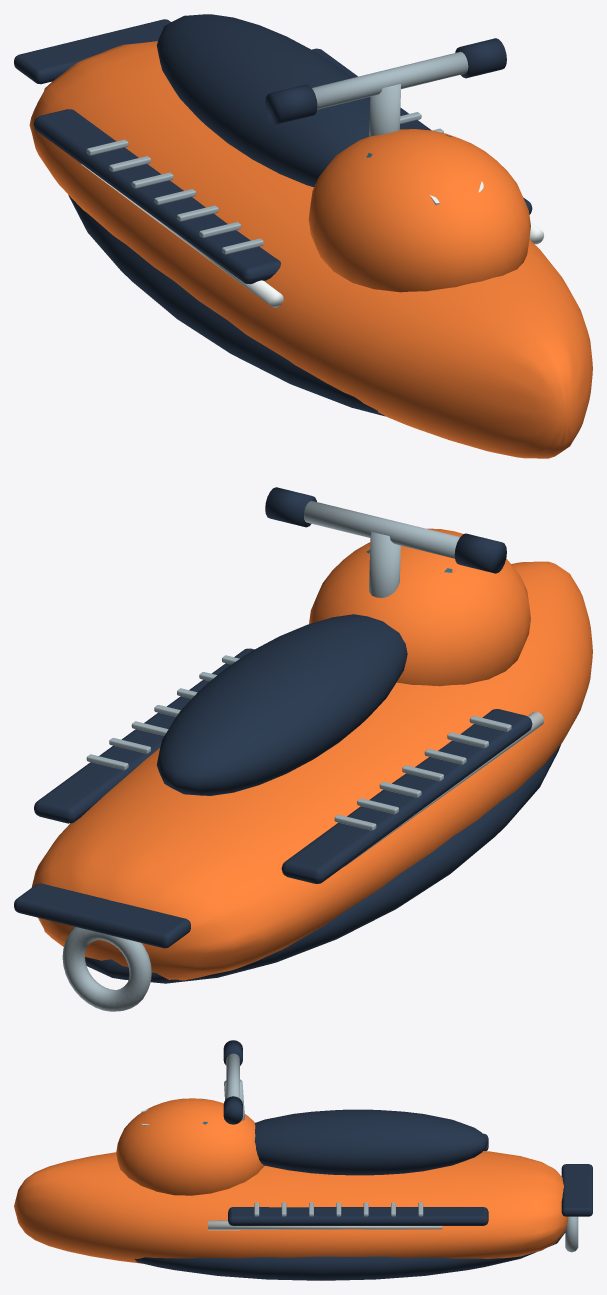
Rendered from 02_Surge_Balanced.glb.
The picture shows the model from 3 angles, top to bottom: view 1: azimuth 30°, elevation 25°; view 2: azimuth 150°, elevation 25°; view 3: azimuth 270°, elevation 25°; orthographic projection. The views are drawn at different scales.
Parts seen in each view (by area): view 1: Sculpted hull.001, Front cowl.001, Saddle.001, Foot deck.002, Lower hull.001, Handlebar.001, Rear step.001, Grip.002, Steering column.001, Grip.003, Side highlight.002, Foot deck.003; view 2: Sculpted hull.001, Saddle.001, Front cowl.001, Foot deck.002, Lower hull.001, Rear step.001, Foot deck.003, Jet outlet.001, Handlebar.001, Steering column.001, Grip.002, Grip.003 (+1 smaller); view 3: Sculpted hull.001, Saddle.001, Front cowl.001, Lower hull.001, Foot deck.003, Rear step.001, Side highlight.003, Handlebar.001, Grip.003, Jet outlet.001, Grip.002.
Part boxes in pixels (<box>): Sculpted hull.001: <box>29,41,592,458</box>; Front cowl.001: <box>308,129,530,292</box>; Saddle.001: <box>156,14,370,187</box>; Foot deck.002: <box>34,109,280,284</box>; Lower hull.001: <box>68,194,385,416</box>; Handlebar.001: <box>312,51,468,109</box>; Rear step.001: <box>14,19,170,84</box>; Grip.002: <box>265,84,317,124</box>; Steering column.001: <box>369,84,400,136</box>; Grip.003: <box>455,38,506,78</box>; Side highlight.002: <box>81,164,283,307</box>; Foot deck.003: <box>312,48,532,214</box>; Sculpted hull.001: <box>31,561,592,980</box>; Saddle.001: <box>156,614,407,795</box>; Front cowl.001: <box>309,528,530,686</box>; Foot deck.002: <box>281,709,532,883</box>; Lower hull.001: <box>85,745,560,983</box>; Rear step.001: <box>14,883,190,948</box>; Foot deck.003: <box>34,648,254,823</box>; Jet outlet.001: <box>62,927,151,1011</box>; Handlebar.001: <box>304,500,459,558</box>; Steering column.001: <box>369,531,400,597</box>; Grip.002: <box>454,533,506,573</box>; Grip.003: <box>265,487,316,527</box>; Sculpted hull.001: <box>14,1151,568,1263</box>; Saddle.001: <box>254,1109,488,1175</box>; Front cowl.001: <box>116,1098,264,1195</box>; Lower hull.001: <box>134,1231,565,1280</box>; Foot deck.003: <box>228,1207,488,1225</box>; Rear step.001: <box>561,1164,592,1216</box>; Side highlight.003: <box>208,1220,442,1230</box>; Handlebar.001: <box>226,1053,239,1098</box>; Grip.003: <box>223,1096,242,1124</box>; Jet outlet.001: <box>565,1216,578,1252</box>; Grip.002: <box>223,1040,242,1065</box>.
Size of the model in its own units: 1.06 by 1.05 by 2.97.
